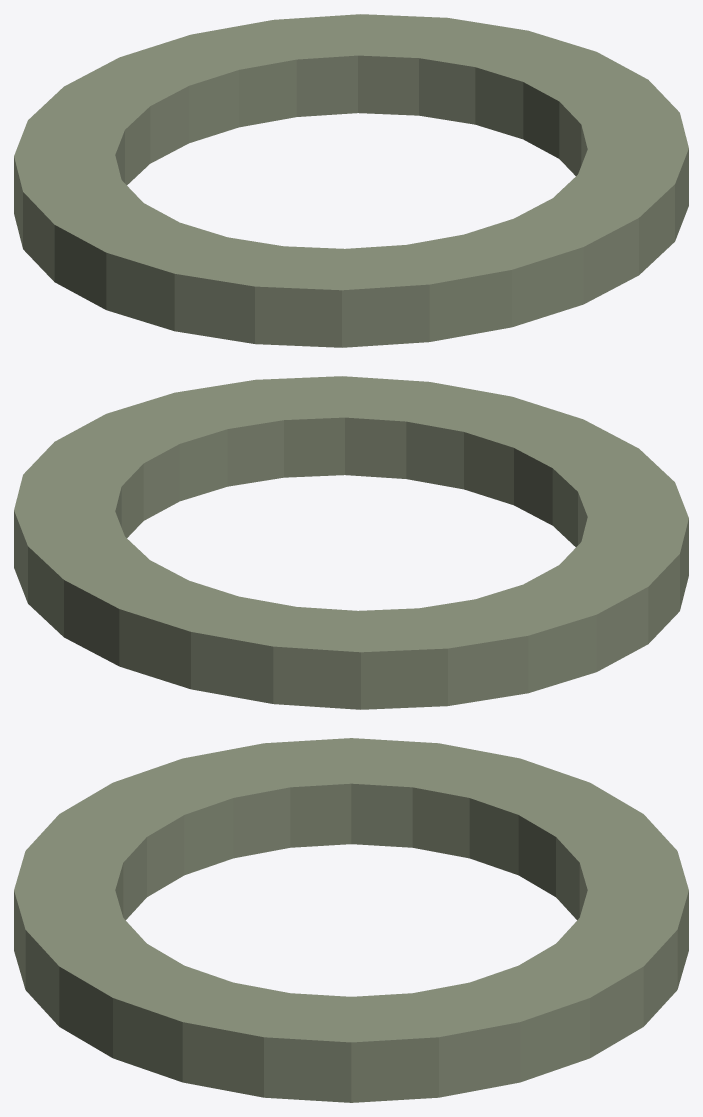
Rendered from ToiletSeat.fbx.
3 views of the same model, one above another, from view 1: azimuth 30°, elevation 25°; view 2: azimuth 150°, elevation 25°; view 3: azimuth 270°, elevation 25° (orthographic). The views are drawn at different scales.
Parts seen in each view (by area): view 1: ToiletSeat; view 2: ToiletSeat; view 3: ToiletSeat.
Part boxes in pixels (x1,y1,x2,y2): ToiletSeat: (14, 14, 688, 347); ToiletSeat: (14, 376, 688, 709); ToiletSeat: (14, 738, 688, 1102).
Size of the model in its own units: 0.54 by 0.05 by 0.506.
